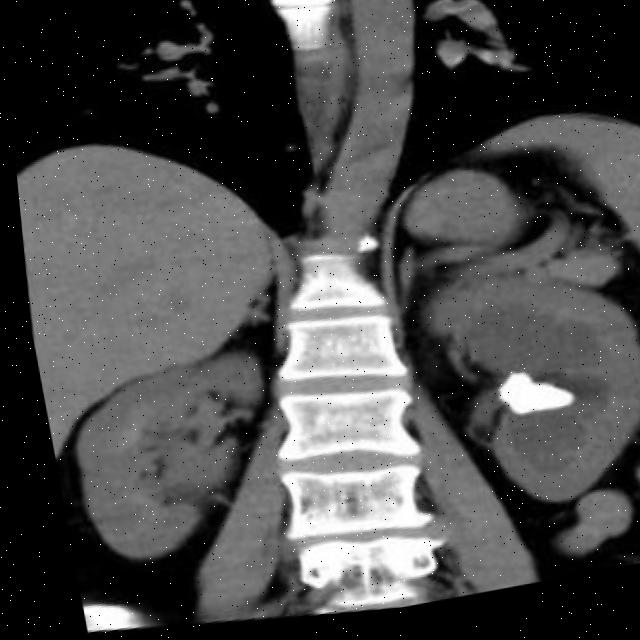Tas_Var: (477, 361, 578, 440)
